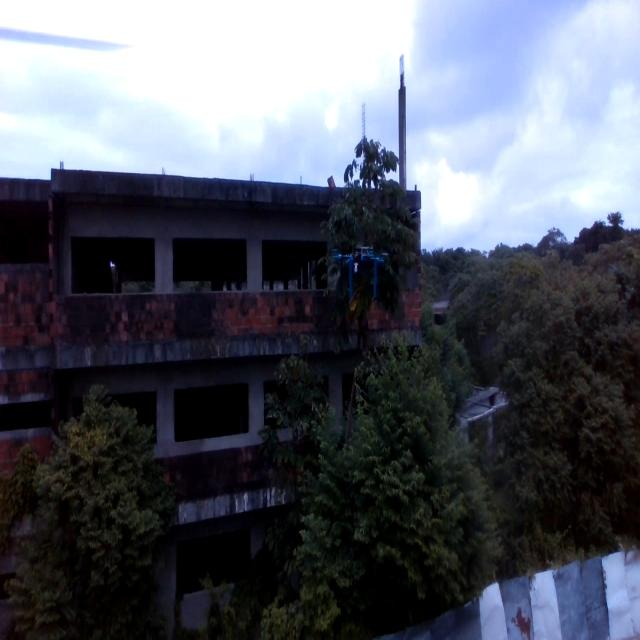-uav-: (326, 228, 402, 317)
